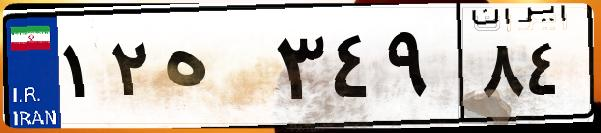1: (57, 26, 110, 100)
2: (110, 28, 158, 98)
3: (270, 28, 330, 110)
4: (330, 28, 385, 110), (525, 38, 570, 115)
8: (475, 38, 525, 113)
9: (385, 28, 445, 110)
ه: (158, 20, 270, 120)
